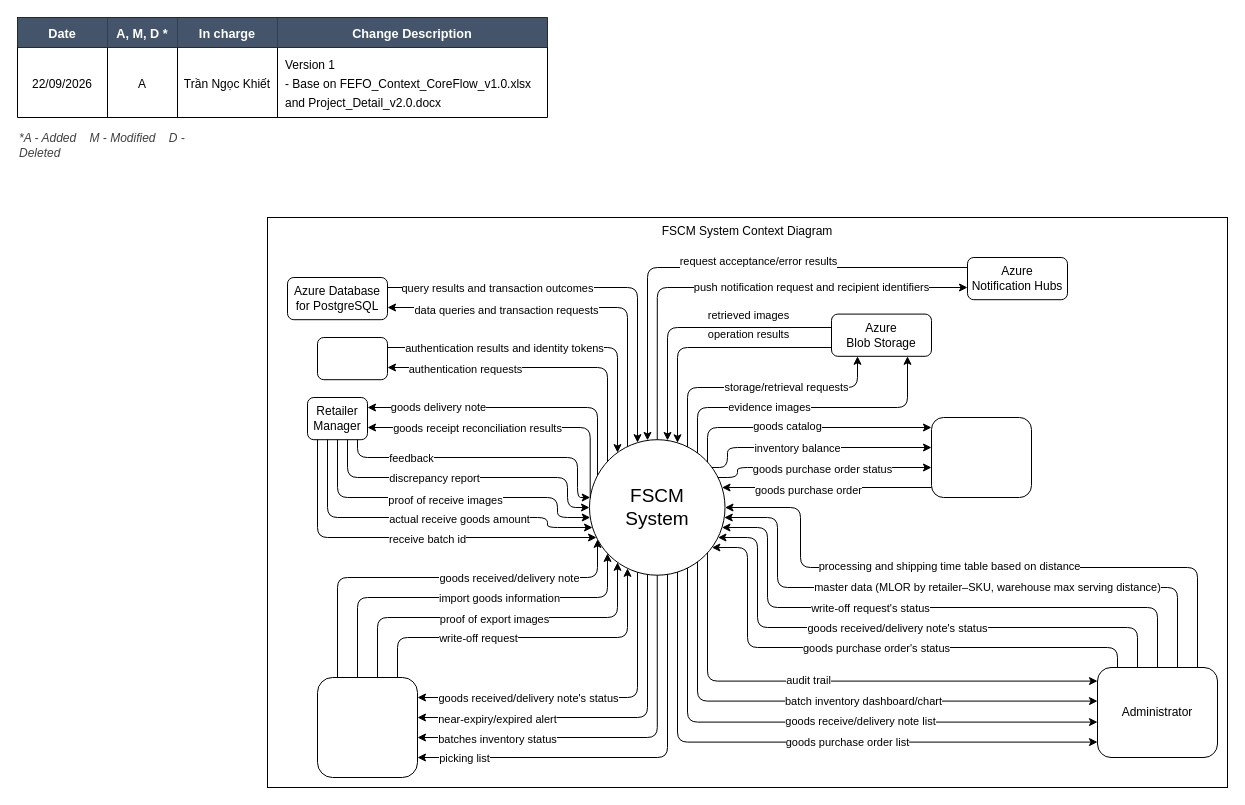
The diagram is 1245 pixels wide and 805 high, and some of its shapes have lost their labels. Here are the shapes that lost their labels. From the top down, the box of each, then its label:
(316, 336, 388, 380): Microsoft Entra ID
(930, 416, 1032, 498): Sales Representative
(316, 676, 418, 778): Warehouse Keeper
